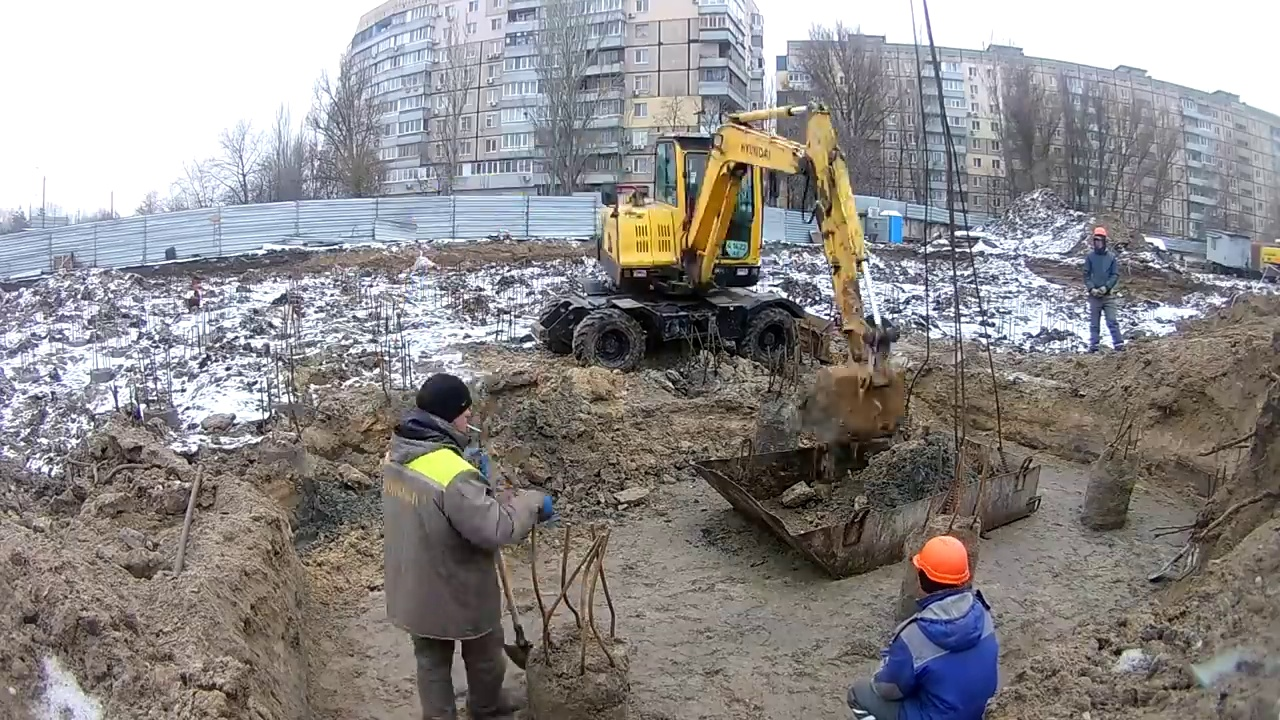helmet: (913, 537, 972, 585), (1092, 228, 1107, 240)
helmet-off: (413, 377, 474, 444)
helmet-on: (913, 533, 973, 597), (1091, 228, 1108, 252)
person: (373, 368, 550, 720), (846, 534, 1000, 720), (1082, 228, 1125, 356)
